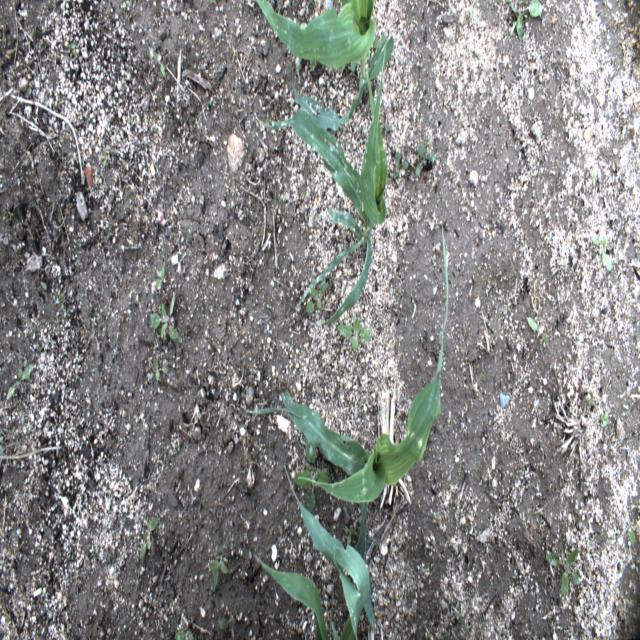crop: (245, 222, 448, 632), (255, 54, 387, 328), (254, 468, 373, 639), (254, 0, 393, 130)
weed: (295, 429, 330, 516), (545, 548, 584, 596), (150, 294, 183, 342), (510, 0, 544, 42), (6, 358, 34, 404), (338, 316, 372, 352), (525, 316, 551, 358), (205, 557, 230, 594), (591, 234, 613, 274), (415, 139, 437, 178), (138, 518, 158, 560), (305, 280, 327, 314), (392, 149, 409, 179), (172, 617, 195, 638), (151, 50, 166, 82), (219, 612, 236, 639), (150, 266, 164, 296), (153, 358, 168, 381)
